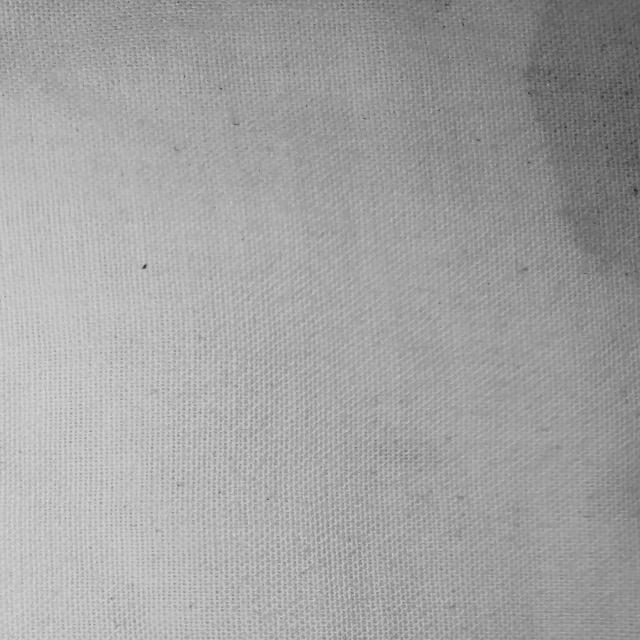stain: (516, 0, 640, 310)
